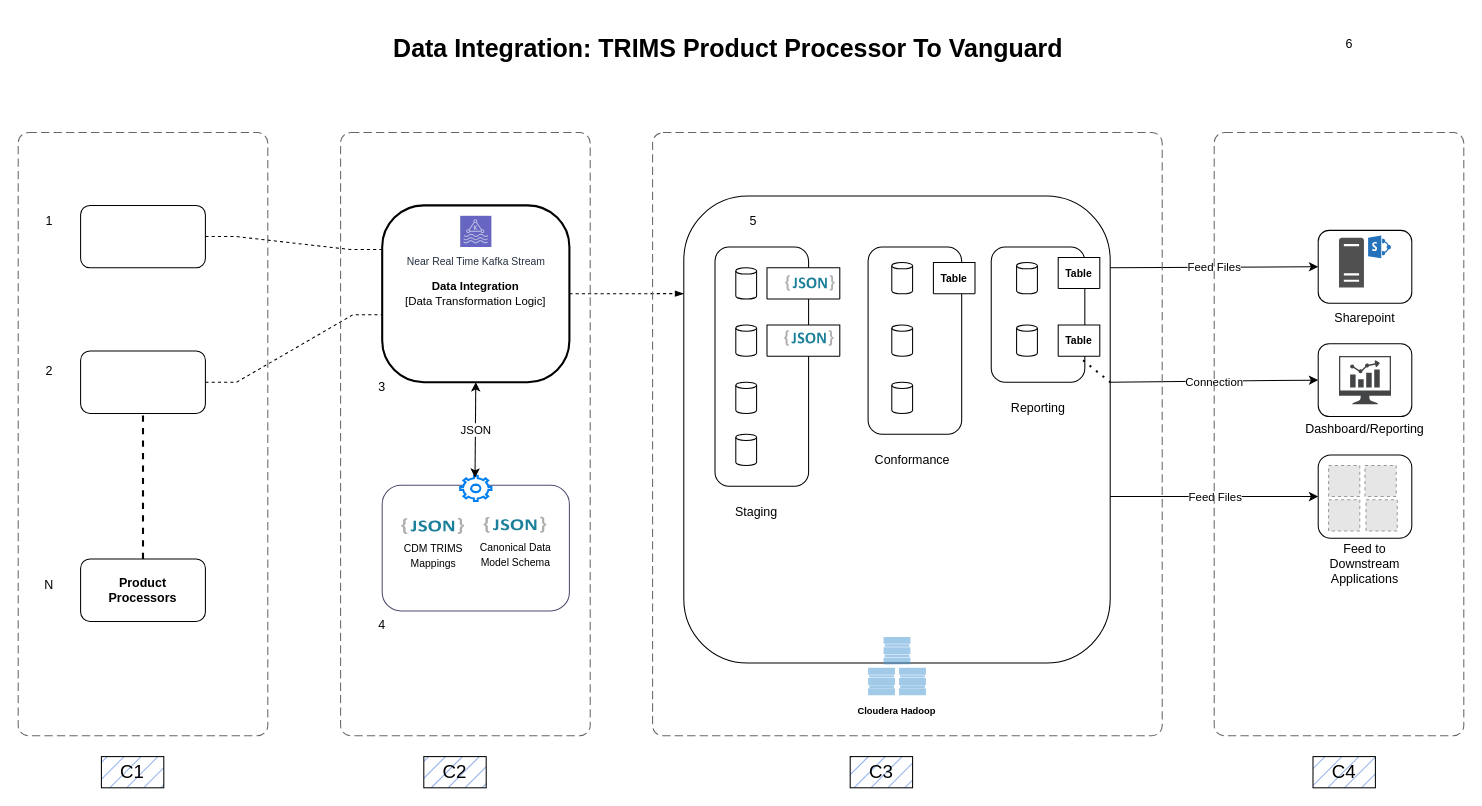
Some shapes in this 1482 by 806 pixel diagram are drawn without their labels. Grey dashed boxes stand in for pictures. Each missing label, with the box of its shape:
Batch/Stream Processing [Integration Systems]: (340, 132, 590, 736)
Data Consumers [Downstream Systems]: (1213, 132, 1464, 736)
FLEXCUBE: (80, 350, 205, 413)
Product Processors [Source Systems]: (17, 132, 268, 736)
TRIMS: (80, 204, 205, 268)
Vanguard [Data Lake/Ware House]: (652, 132, 1162, 736)
